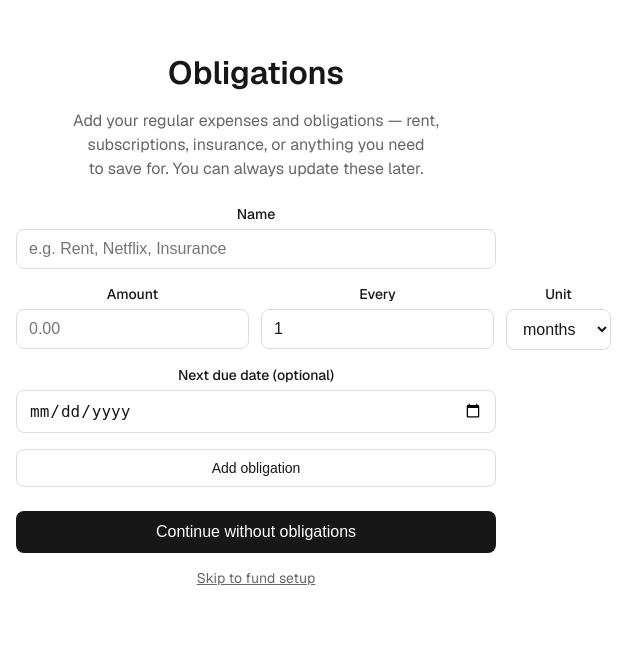
Test: OnboardingManualObligationsPage › shows due date in entry detail when provided
Type "Insurance" into the field labelled "Name" at (256, 248), box 16,228 -> 496,268
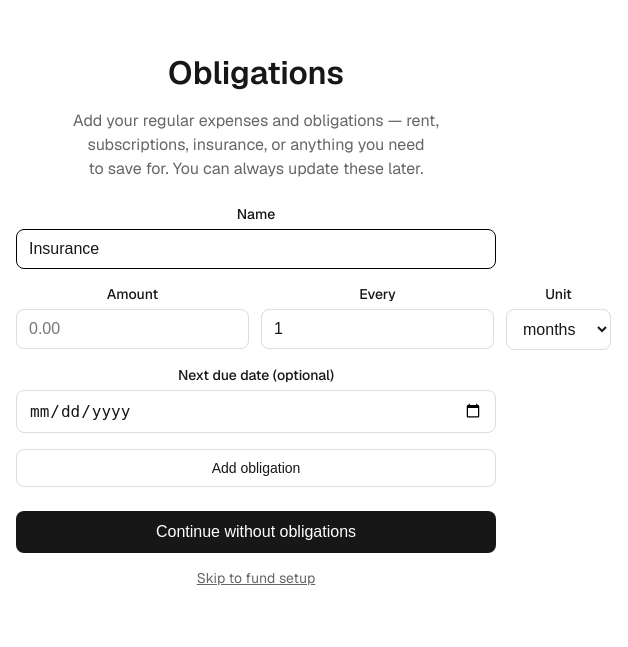
Type "200" into the number field labelled "Amount" at (132, 328), box 16,308 -> 249,348
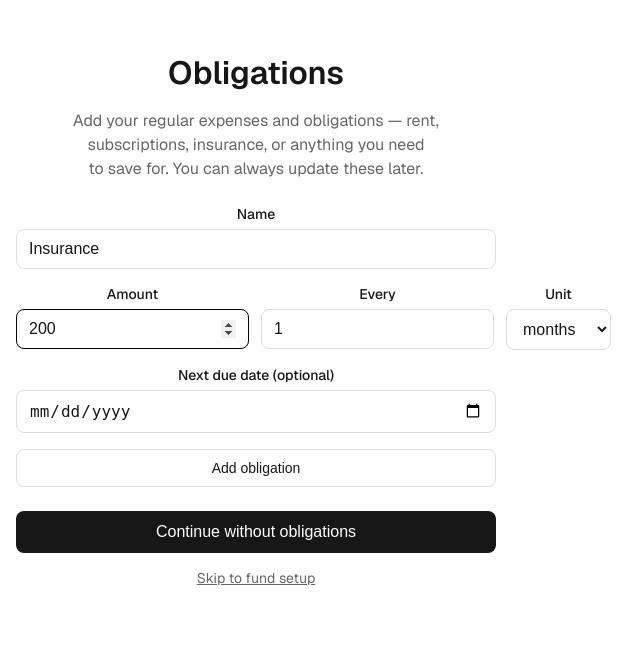
Type "2026-03-15" into the date field labelled "Next due date (optional)" at (256, 411), box 16,390 -> 496,432
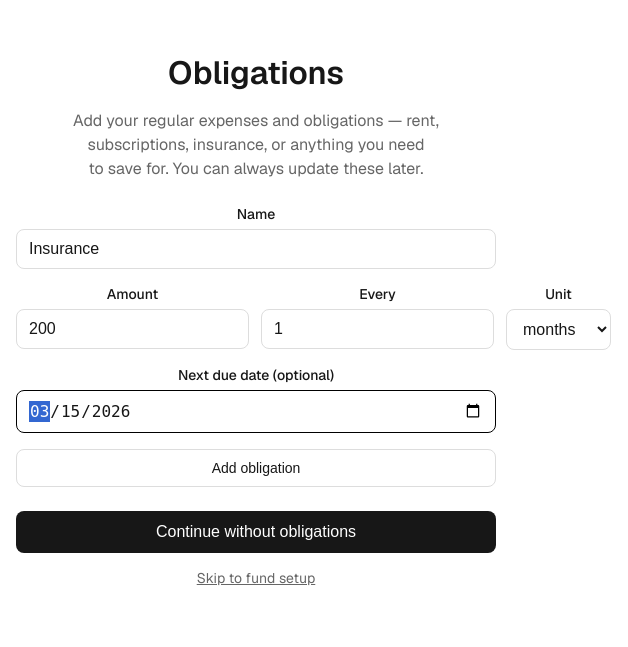
Click the button "Add obligation" at (256, 468), box 16,448 -> 496,486
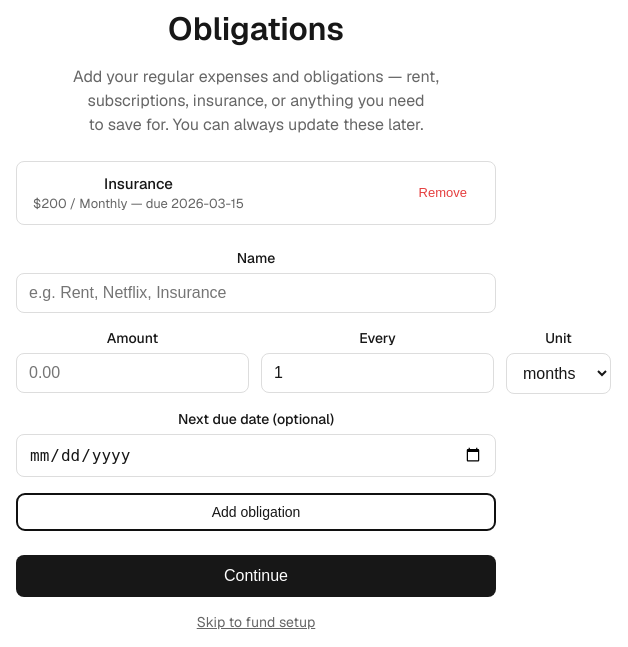
Result: the text "Insurance" is shown at 104,174 -> 173,192
Result: the text "$200 / Monthly — due 2026-03-15" is shown at 33,194 -> 244,212
